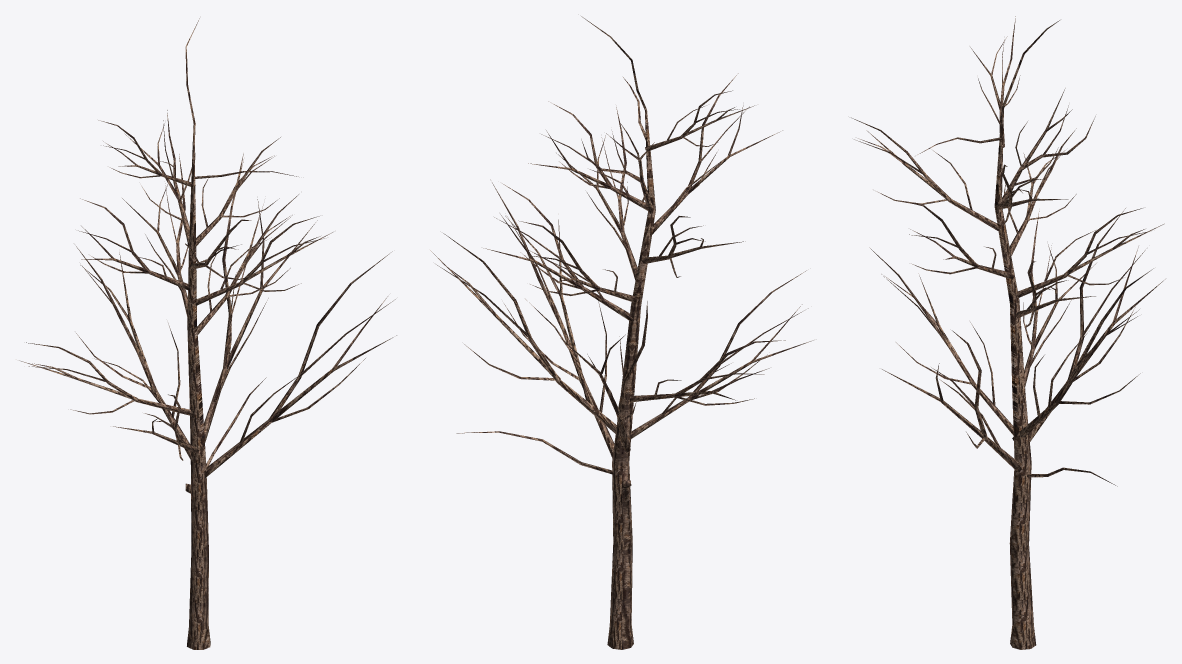
File: tree_trunk3v.fbx
The picture shows the model from 3 angles, left to right: view 1: azimuth 30°, elevation 25°; view 2: azimuth 150°, elevation 25°; view 3: azimuth 270°, elevation 25°; orthographic projection. The views are drawn at different scales.
Parts seen in each view (by area): view 1: Mesh13 trunk1 Group1 Tree_greeen1_1 tree_3d__2_1 Model, Mesh39 branch1_2_7 Group1 Tree_greeen1_1 tree_3d__2_1 Model, Mesh15 branch1_2_3 Group1 Tree_greeen1_1 tree_3d__2_1 Model, Mesh8 branch1_2_2 Group1 Tree_greeen1_1 tree_3d__2_1 Model, Mesh27 branch1_2_5 Group1 Tree_greeen1_1 tree_3d__2_1 Model, Mesh33 branch1_2_6 Group1 Tree_greeen1_1 tree_3d__2_1 Model, Mesh45 branch1_2_8 Group1 Tree_greeen1_1 tree_3d__2_1 Model; view 2: Mesh13 trunk1 Group1 Tree_greeen1_1 tree_3d__2_1 Model, Mesh15 branch1_2_3 Group1 Tree_greeen1_1 tree_3d__2_1 Model, Mesh39 branch1_2_7 Group1 Tree_greeen1_1 tree_3d__2_1 Model, Mesh63 branch1_2_11 Group1 Tree_greeen1_1 tree_3d__2_1 Model, Mesh8 branch1_2_2 Group1 Tree_greeen1_1 tree_3d__2_1 Model, Mesh33 branch1_2_6 Group1 Tree_greeen1_1 tree_3d__2_1 Model, Mesh27 branch1_2_5 Group1 Tree_greeen1_1 tree_3d__2_1 Model, Mesh45 branch1_2_8 Group1 Tree_greeen1_1 tree_3d__2_1 Model, Mesh77 branch1_2_13 Group1 Tree_greeen1_1 tree_3d__2_1 Model; view 3: Mesh13 trunk1 Group1 Tree_greeen1_1 tree_3d__2_1 Model, Mesh63 branch1_2_11 Group1 Tree_greeen1_1 tree_3d__2_1 Model, Mesh15 branch1_2_3 Group1 Tree_greeen1_1 tree_3d__2_1 Model, Mesh39 branch1_2_7 Group1 Tree_greeen1_1 tree_3d__2_1 Model, Mesh8 branch1_2_2 Group1 Tree_greeen1_1 tree_3d__2_1 Model, Mesh77 branch1_2_13 Group1 Tree_greeen1_1 tree_3d__2_1 Model, Mesh51 branch1_2_9 Group1 Tree_greeen1_1 tree_3d__2_1 Model, Mesh21 branch1_2_4 Group1 Tree_greeen1_1 tree_3d__2_1 Model, Mesh45 branch1_2_8 Group1 Tree_greeen1_1 tree_3d__2_1 Model, Mesh27 branch1_2_5 Group1 Tree_greeen1_1 tree_3d__2_1 Model, Mesh57 branch1_2_10 Group1 Tree_greeen1_1 tree_3d__2_1 Model.
Boxes of the visible parts, <box> form: Mesh13 trunk1 Group1 Tree_greeen1_1 tree_3d__2_1 Model: <box>185,18,210,649</box>; Mesh39 branch1_2_7 Group1 Tree_greeen1_1 tree_3d__2_1 Model: <box>205,251,392,477</box>; Mesh15 branch1_2_3 Group1 Tree_greeen1_1 tree_3d__2_1 Model: <box>194,159,243,454</box>; Mesh8 branch1_2_2 Group1 Tree_greeen1_1 tree_3d__2_1 Model: <box>76,246,192,460</box>; Mesh27 branch1_2_5 Group1 Tree_greeen1_1 tree_3d__2_1 Model: <box>26,342,192,415</box>; Mesh33 branch1_2_6 Group1 Tree_greeen1_1 tree_3d__2_1 Model: <box>197,194,298,334</box>; Mesh45 branch1_2_8 Group1 Tree_greeen1_1 tree_3d__2_1 Model: <box>195,216,319,305</box>; Mesh13 trunk1 Group1 Tree_greeen1_1 tree_3d__2_1 Model: <box>581,16,655,649</box>; Mesh15 branch1_2_3 Group1 Tree_greeen1_1 tree_3d__2_1 Model: <box>443,233,631,439</box>; Mesh39 branch1_2_7 Group1 Tree_greeen1_1 tree_3d__2_1 Model: <box>490,179,614,458</box>; Mesh63 branch1_2_11 Group1 Tree_greeen1_1 tree_3d__2_1 Model: <box>631,270,806,438</box>; Mesh8 branch1_2_2 Group1 Tree_greeen1_1 tree_3d__2_1 Model: <box>617,301,647,452</box>; Mesh33 branch1_2_6 Group1 Tree_greeen1_1 tree_3d__2_1 Model: <box>502,183,633,321</box>; Mesh27 branch1_2_5 Group1 Tree_greeen1_1 tree_3d__2_1 Model: <box>629,340,785,402</box>; Mesh45 branch1_2_8 Group1 Tree_greeen1_1 tree_3d__2_1 Model: <box>616,107,637,280</box>; Mesh77 branch1_2_13 Group1 Tree_greeen1_1 tree_3d__2_1 Model: <box>652,73,738,234</box>; Mesh13 trunk1 Group1 Tree_greeen1_1 tree_3d__2_1 Model: <box>994,20,1059,649</box>; Mesh63 branch1_2_11 Group1 Tree_greeen1_1 tree_3d__2_1 Model: <box>869,247,1013,435</box>; Mesh15 branch1_2_3 Group1 Tree_greeen1_1 tree_3d__2_1 Model: <box>1012,268,1153,440</box>; Mesh39 branch1_2_7 Group1 Tree_greeen1_1 tree_3d__2_1 Model: <box>952,330,1021,472</box>; Mesh8 branch1_2_2 Group1 Tree_greeen1_1 tree_3d__2_1 Model: <box>1029,208,1125,441</box>; Mesh77 branch1_2_13 Group1 Tree_greeen1_1 tree_3d__2_1 Model: <box>851,117,999,230</box>; Mesh51 branch1_2_9 Group1 Tree_greeen1_1 tree_3d__2_1 Model: <box>1016,208,1142,297</box>; Mesh21 branch1_2_4 Group1 Tree_greeen1_1 tree_3d__2_1 Model: <box>1009,128,1076,255</box>; Mesh45 branch1_2_8 Group1 Tree_greeen1_1 tree_3d__2_1 Model: <box>902,201,1014,279</box>; Mesh27 branch1_2_5 Group1 Tree_greeen1_1 tree_3d__2_1 Model: <box>1024,211,1039,386</box>; Mesh57 branch1_2_10 Group1 Tree_greeen1_1 tree_3d__2_1 Model: <box>1001,116,1095,209</box>.
Size of the model in its own units: 340 by 606 by 276.
1 material, 1 textured.
